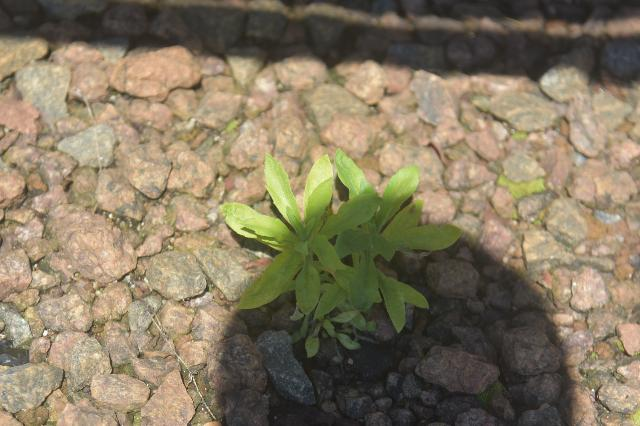MalezaMontesDelPlata: (222, 147, 467, 365)
MusgoMontesDelPlata: (487, 172, 552, 202)
